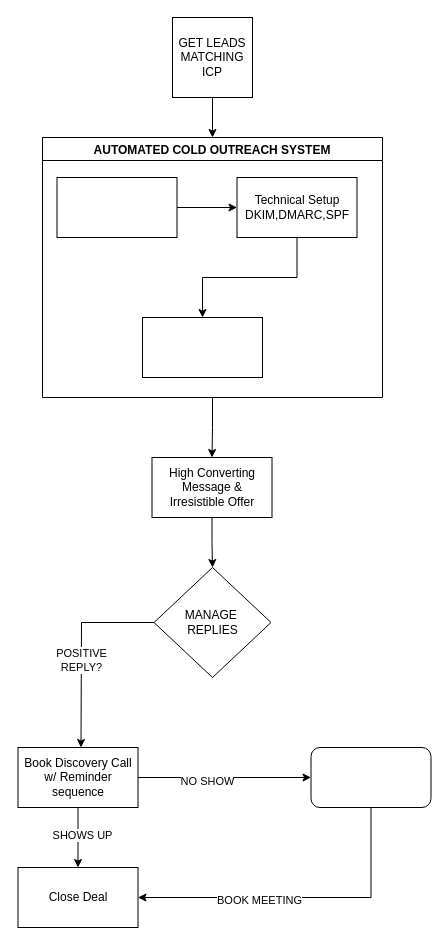
Some shapes in this 448 by 945 pixel diagram are drawn without their labels. Each missing label, with the centre of its shape:
"FOLLOW UP" belongs at point (370, 777).
"Multi Domain System" belongs at point (116, 207).
"WARMUP" belongs at point (202, 347).
